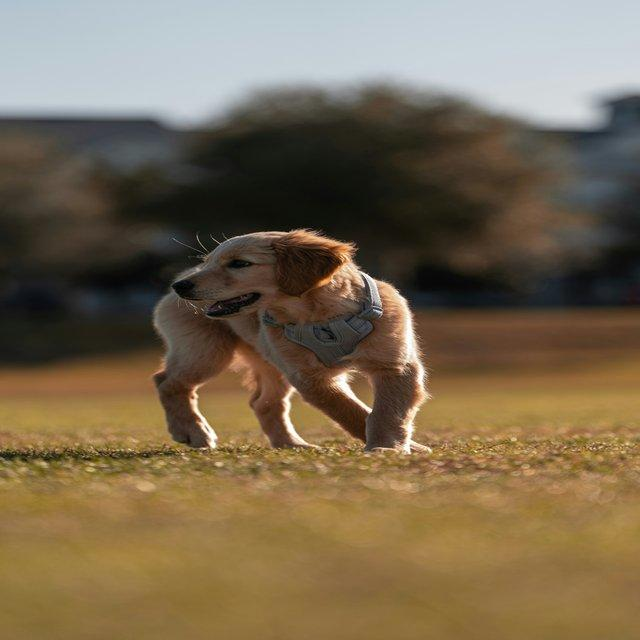retriever: (151, 226, 432, 455)
